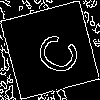C: (25, 25, 84, 80)
